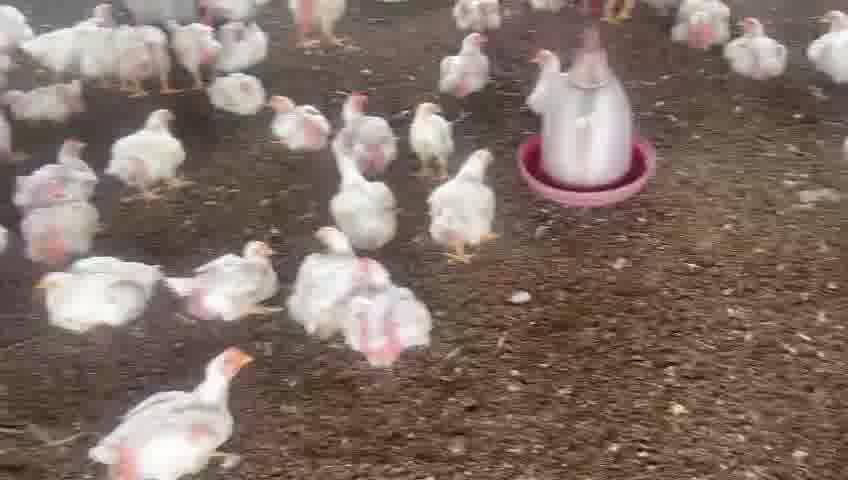Normal: (66, 343, 261, 480), (171, 240, 280, 334), (280, 219, 365, 336), (28, 258, 163, 326), (346, 263, 431, 369), (106, 108, 193, 204), (431, 145, 500, 257), (316, 152, 399, 242), (84, 25, 176, 103), (14, 139, 99, 214), (9, 79, 93, 149), (21, 184, 98, 259), (431, 23, 491, 111), (720, 16, 794, 80), (201, 75, 279, 128), (413, 89, 464, 170), (164, 15, 225, 82), (268, 90, 331, 151)
